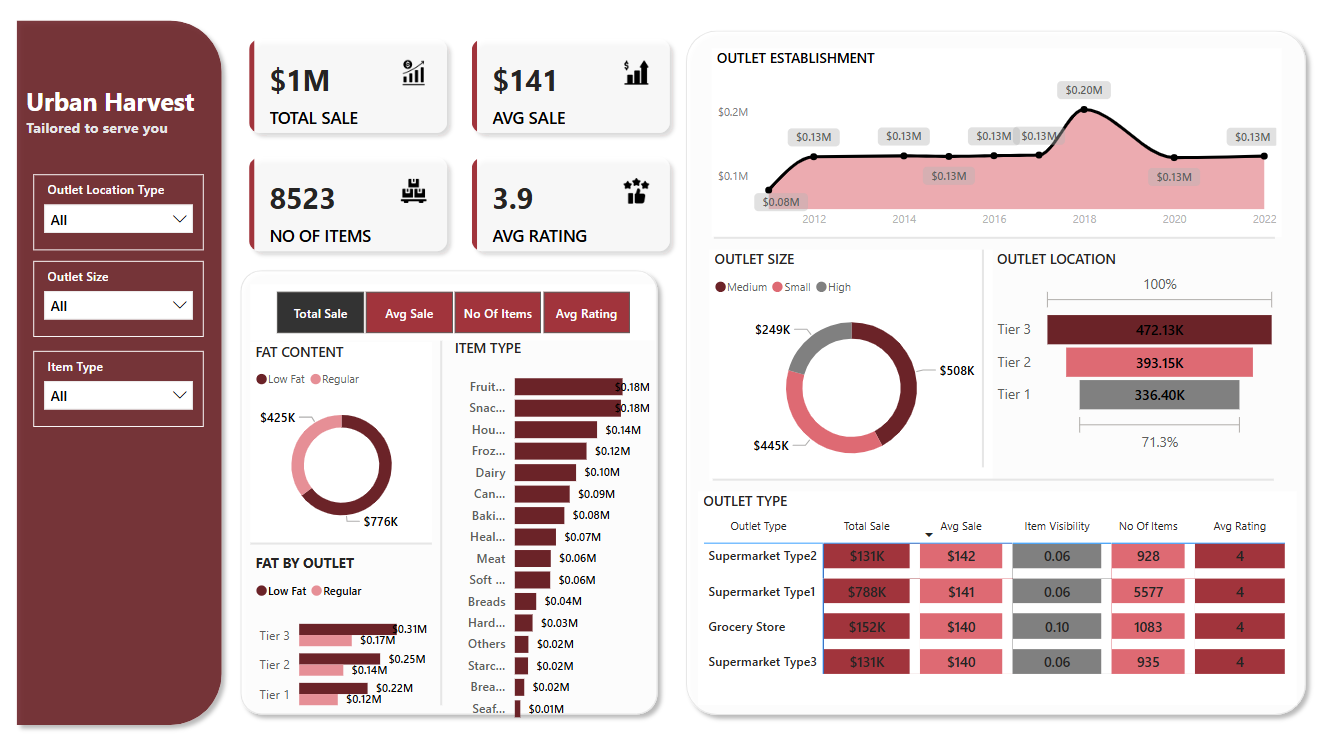

This screenshot's page, from the dashboard's own definition file:
{"tool":"powerbi","page":{"name":"Page 1","canvas":[1280,720],"ordinal":0},"visuals":[{"type":"shape","box":[12.3,9.6,216.8,701.2],"z":0},{"type":"textbox","box":[24.7,75.5,188,97.4],"z":1000},{"type":"cardVisual","fields":{"Data":["BlinkIT Grocery Data.Total Sale","BlinkIT Grocery Data.Avg Sale","BlinkIT Grocery Data.No Of Items","BlinkIT Grocery Data.Avg Rating"]},"box":[229.2,19.3,444,241.3],"z":2000},{"type":"shape","box":[229.2,252.1,422.3,448.8],"z":3000},{"type":"donutChart","title":"FAT CONTENT","fields":{"Y":["BlinkIT Grocery Data.Total Sale"],"Category":["BlinkIT Grocery Data.Item Fat Content"]},"box":[247.3,330.6,176.1,195.4],"z":4000},{"type":"slicer","fields":{"Values":["Metrics.Metrics"]},"box":[247.3,275.1,392.1,54.3],"z":5000},{"type":"clusteredBarChart","title":"FAT BY OUTLET","fields":{"Y":["BlinkIT Grocery Data.Total Sale"],"Category":["BlinkIT Grocery Data.Outlet Location Type"],"Series":["BlinkIT Grocery Data.Item Fat Content"]},"box":[247.3,535.7,176.1,165.3],"z":7000},{"type":"shape","box":[247.3,517.6,176.1,18.1],"z":8000},{"type":"shape","box":[425.9,329.4,14.5,353.5],"z":9000},{"type":"barChart","title":"ITEM TYPE","fields":{"Y":["BlinkIT Grocery Data.Total Sale"],"Category":["BlinkIT Grocery Data.Item Type"]},"box":[440.4,326.9,199.1,381.2],"z":10000},{"type":"shape","box":[661.1,19.3,618.9,681.6],"z":11000},{"type":"lineChart","title":"OUTLET ESTABLISHMENT","fields":{"Category":["BlinkIT Grocery Data.Outlet Establishment Year"],"Y":["BlinkIT Grocery Data.Total Sale"]},"box":[694.9,45.8,552.5,183.4],"z":12000},{"type":"shape","box":[697.3,218.4,544.1,22.9],"z":13000},{"type":"donutChart","title":"OUTLET SIZE","fields":{"Y":["BlinkIT Grocery Data.Total Sale"],"Category":["BlinkIT Grocery Data.Outlet Size"]},"box":[692.5,241.3,275.1,224.4],"z":14000},{"type":"shape","box":[944.6,241.3,26.5,211.1],"z":15000},{"type":"funnel","title":"OUTLET LOCATION","fields":{"Y":["Sum(BlinkIT Grocery Data.Sales)"],"Category":["BlinkIT Grocery Data.Outlet Location Type"]},"box":[966.4,241.3,281.1,201.5],"z":16000},{"type":"shape","box":[696.1,452.4,544.1,22.9],"z":17000},{"type":"pivotTable","title":"OUTLET TYPE","fields":{"Rows":["BlinkIT Grocery Data.Outlet Type"],"Values":["BlinkIT Grocery Data.Total Sale","BlinkIT Grocery Data.Avg Sale","Avg(BlinkIT Grocery Data.Item Visibility)","BlinkIT Grocery Data.No Of Items","BlinkIT Grocery Data.Avg Rating"]},"box":[681.6,475.3,580.3,207.5],"z":18000},{"type":"slicer","fields":{"Values":["BlinkIT Grocery Data.Outlet Location Type"]},"box":[37.4,167.7,165.3,73.6],"z":19000},{"type":"slicer","fields":{"Values":["BlinkIT Grocery Data.Outlet Size"]},"box":[37.4,252.1,165.3,73.6],"z":20000},{"type":"slicer","fields":{"Values":["BlinkIT Grocery Data.Item Type"]},"box":[37.4,339,165.3,73.6],"z":21000}]}

Visuals, with their boxes in screenshot pixels (x1, y1, x2, y2), scaled from the page's 1280x720 canvas onto the 1329x741 screenshot:
shape: 13/10/238/732
textbox: 26/78/221/178
cardVisual - BlinkIT Grocery Data.Total Sale x BlinkIT Grocery Data.Avg Sale: 238/20/699/268
shape: 238/259/676/721
"FAT CONTENT" donutChart: 257/340/440/541
slicer - Metrics.Metrics: 257/283/664/339
"FAT BY OUTLET" clusteredBarChart: 257/551/440/721
shape: 257/533/440/551
shape: 442/339/457/703
"ITEM TYPE" barChart: 457/336/664/729
shape: 686/20/1328/721
"OUTLET ESTABLISHMENT" lineChart: 722/47/1295/236
shape: 724/225/1289/248
"OUTLET SIZE" donutChart: 719/248/1005/479
shape: 981/248/1008/466
"OUTLET LOCATION" funnel: 1003/248/1295/456
shape: 723/466/1288/489
"OUTLET TYPE" pivotTable: 708/489/1310/703
slicer - BlinkIT Grocery Data.Outlet Location Type: 39/173/210/248
slicer - BlinkIT Grocery Data.Outlet Size: 39/259/210/335
slicer - BlinkIT Grocery Data.Item Type: 39/349/210/425
